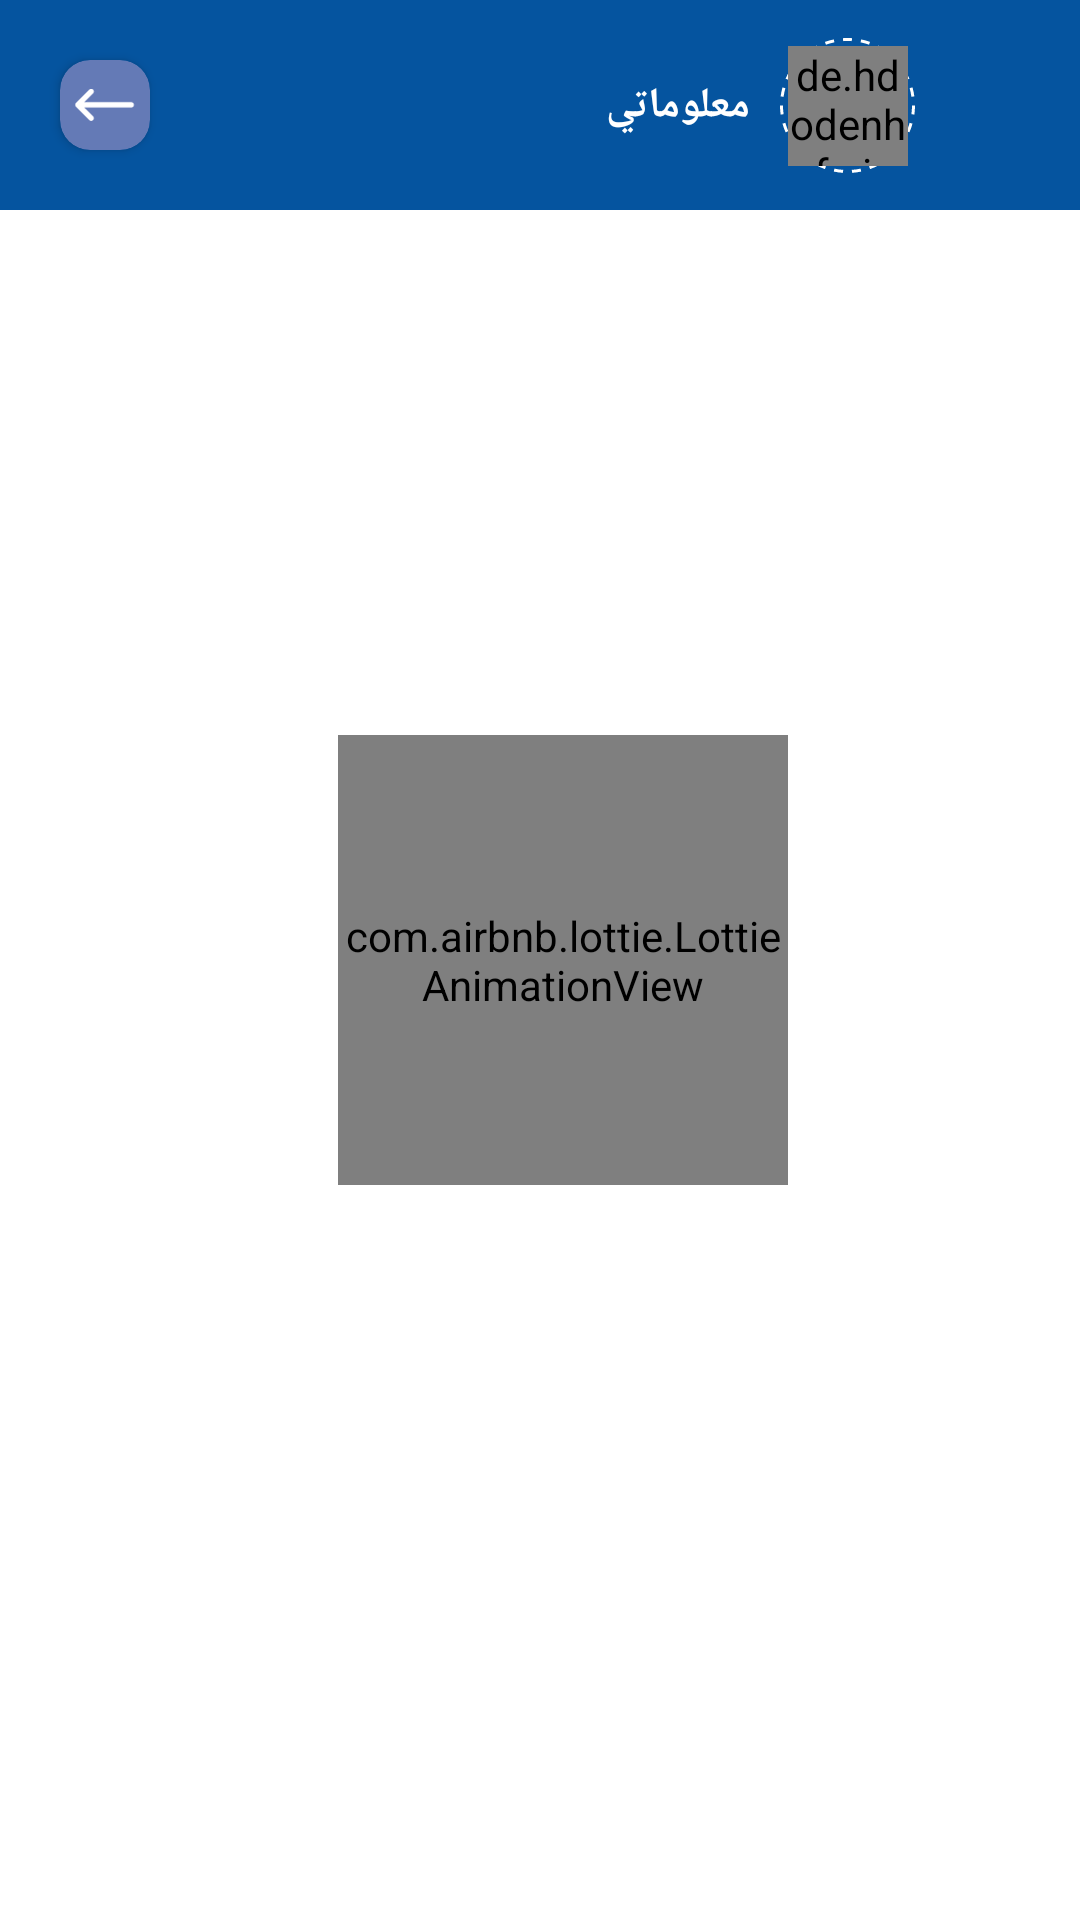

Point at icon controls on the screen. Image size 1080 × 1920, points as (x=x, y=y).
arraw: (x=105, y=105)
